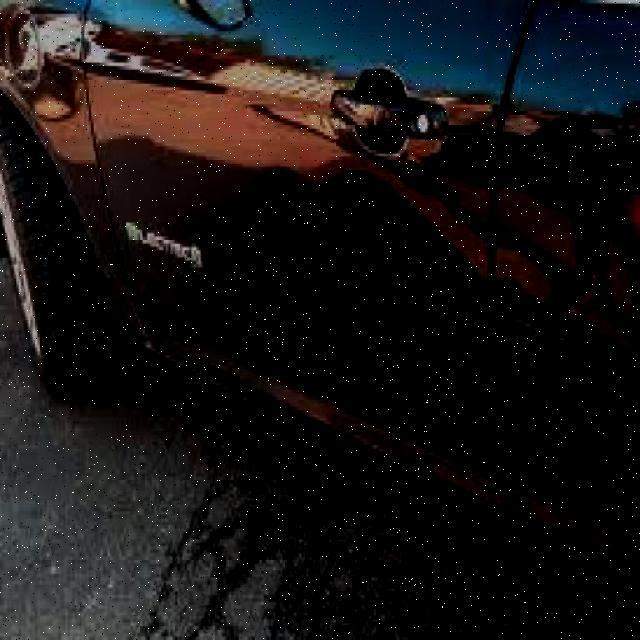car damage: (365, 283, 612, 454)
